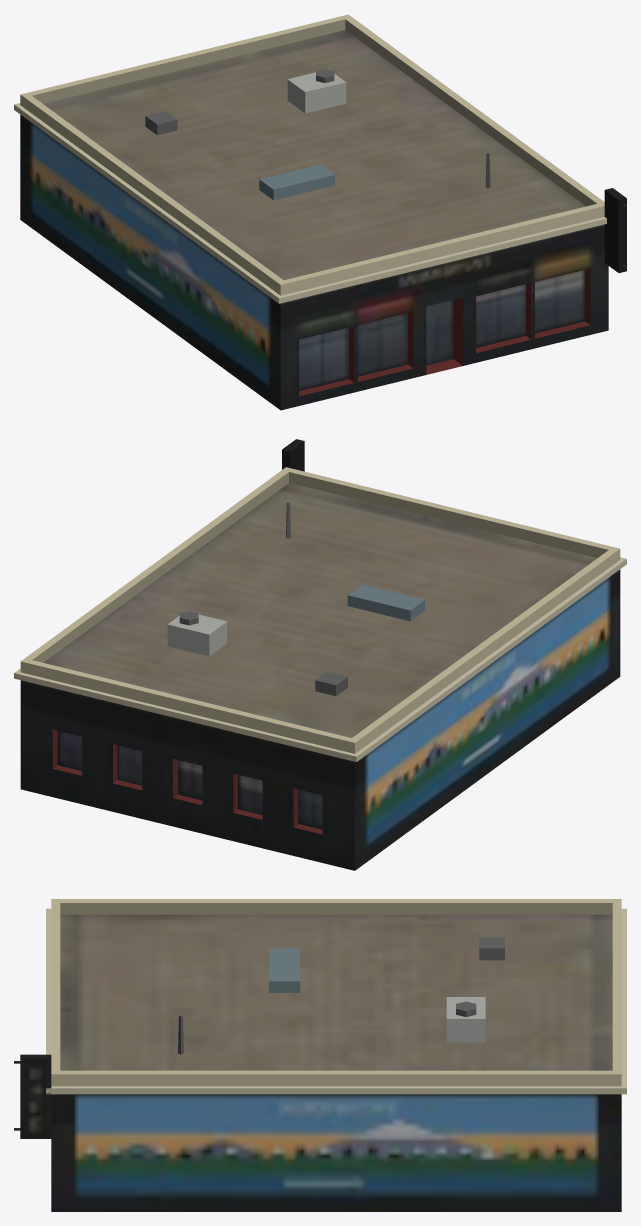
The model's file is seattle_low_b.glb.
3 views of the same model, one above another, from view 1: azimuth 30°, elevation 25°; view 2: azimuth 150°, elevation 25°; view 3: azimuth 270°, elevation 25° (orthographic). The views are drawn at different scales.
Visible parts, largest first — view 1: seattle_low_b; view 2: seattle_low_b; view 3: seattle_low_b.
Part boxes in pixels (bbox=[...]): seattle_low_b: bbox=[14, 14, 626, 410]; seattle_low_b: bbox=[14, 439, 626, 870]; seattle_low_b: bbox=[14, 899, 626, 1211].
Bounding box in the file's own units: 16.4 × 6.95 × 23.64.
1 material, 1 textured.
